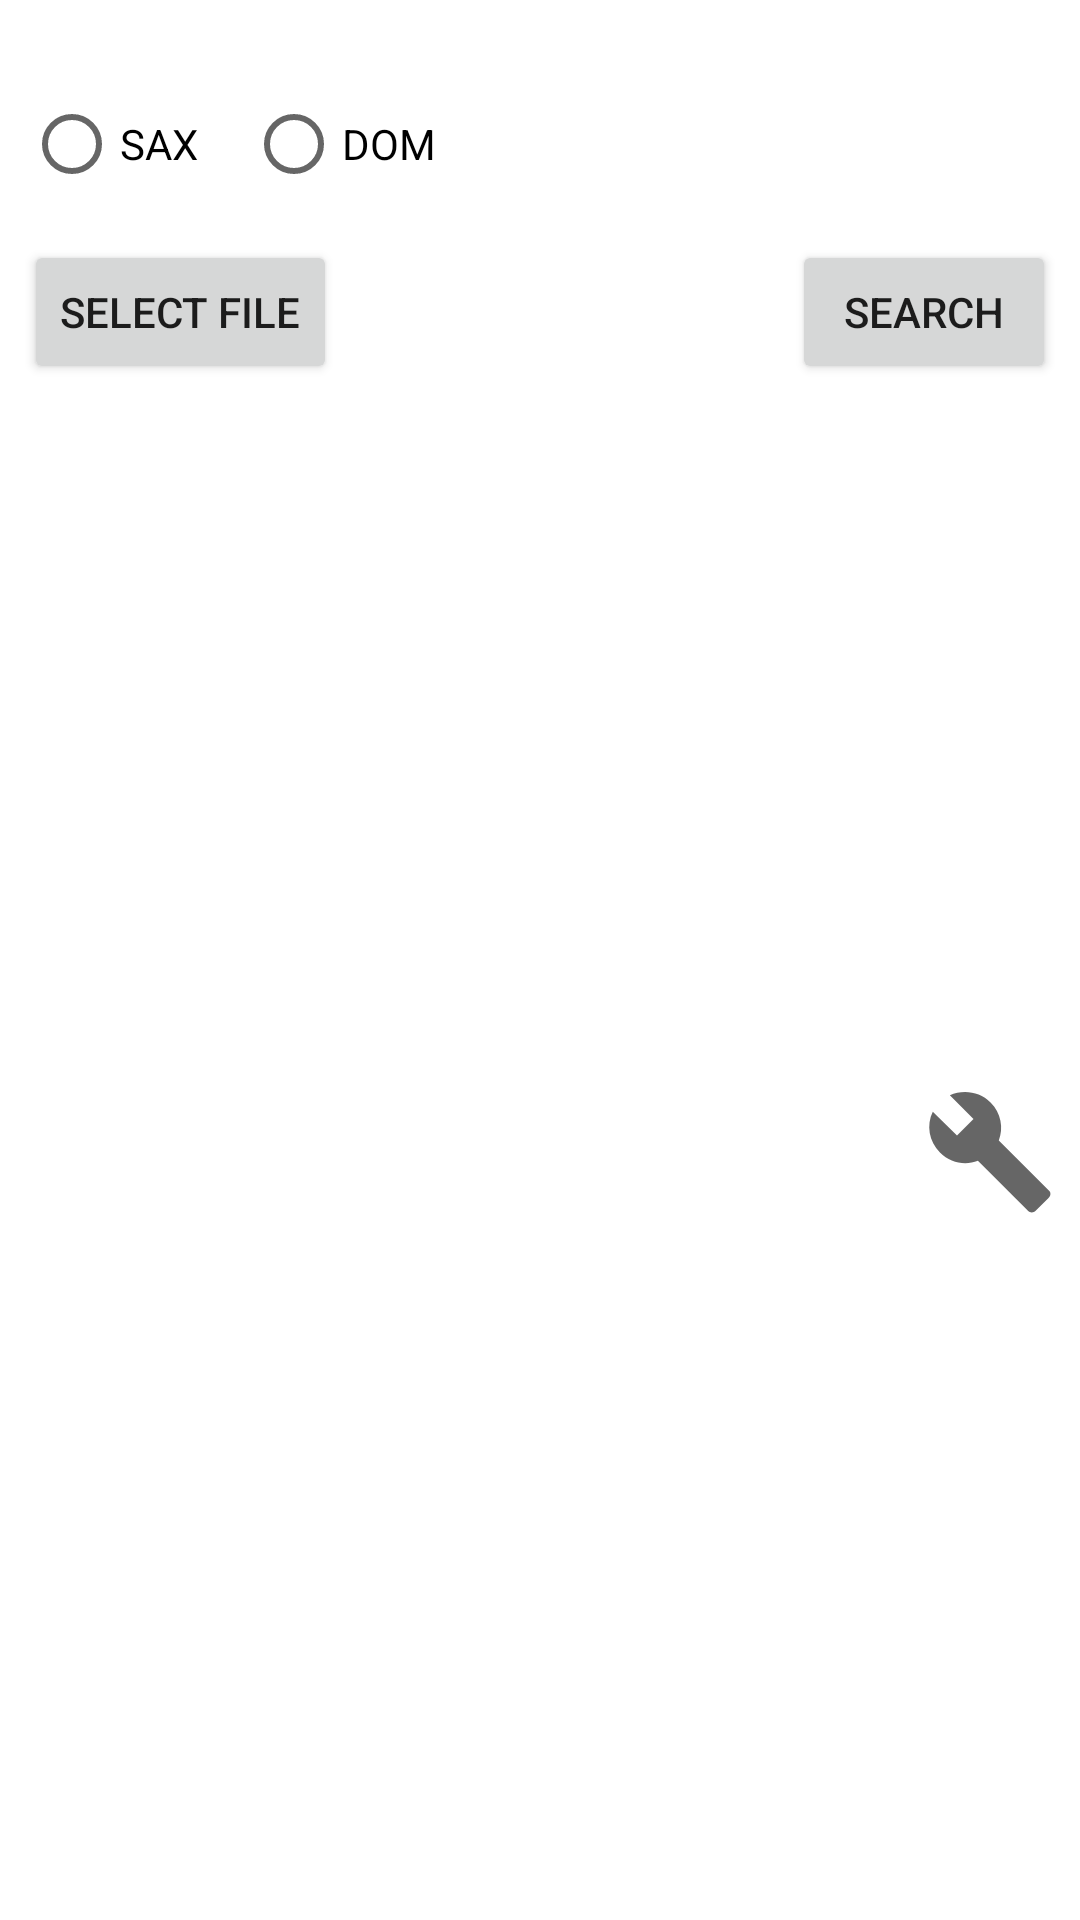

Locate icon controls on the screen. Image size 1080 x 1920, boxes as box=[x1, y1, x2, y2].
settings: box=[929, 1092, 1051, 1213]
